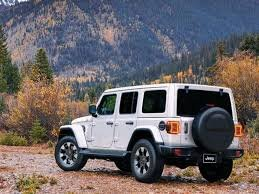mobil: (57, 83, 245, 181)
